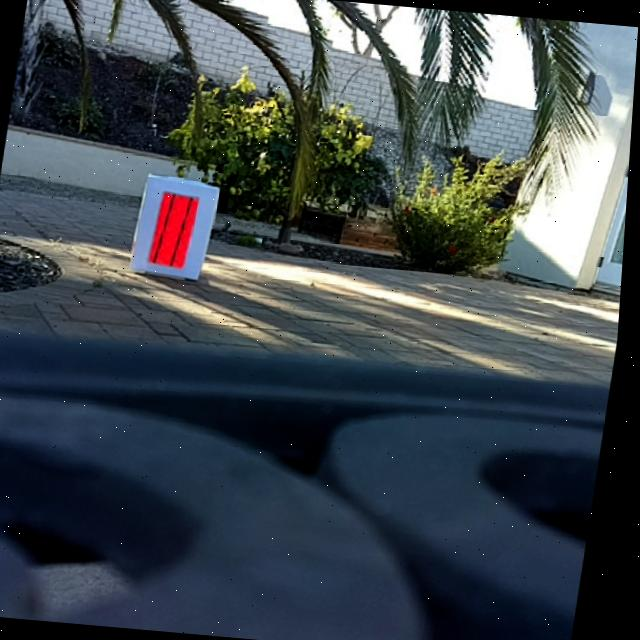led: (151, 188, 202, 270)
